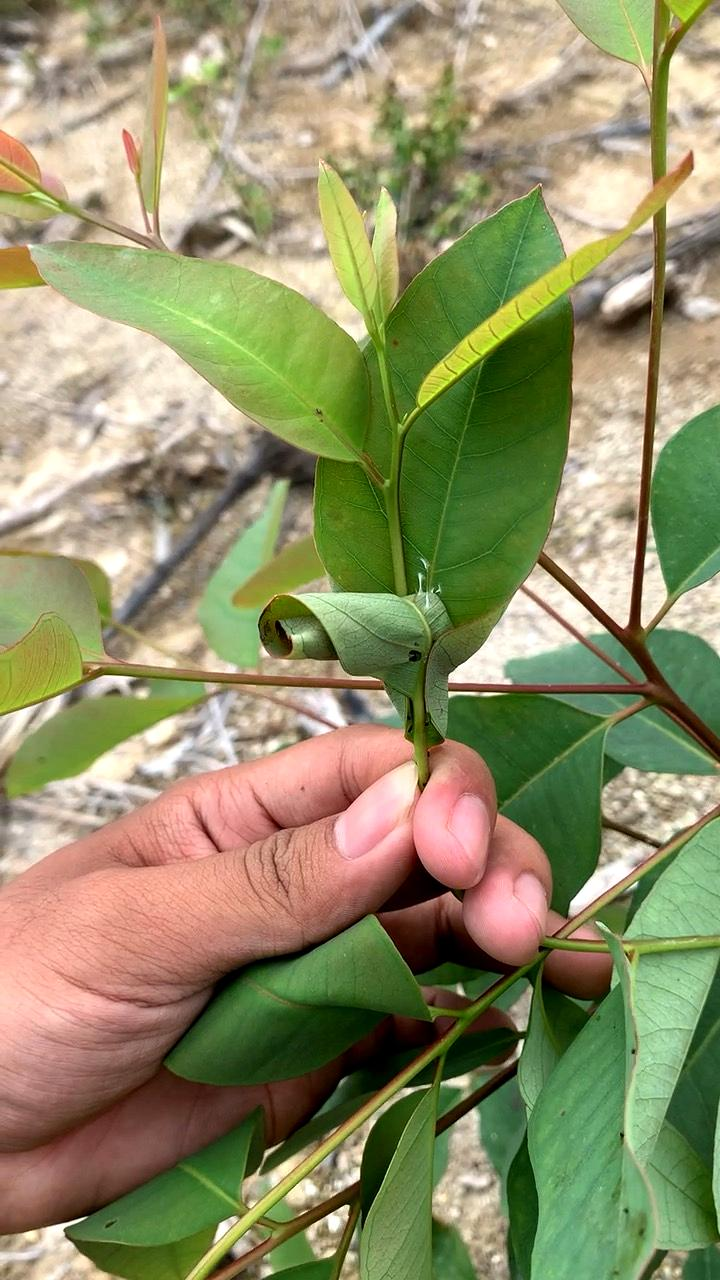Leaf Roller - Leaf: (228, 553, 485, 714)
